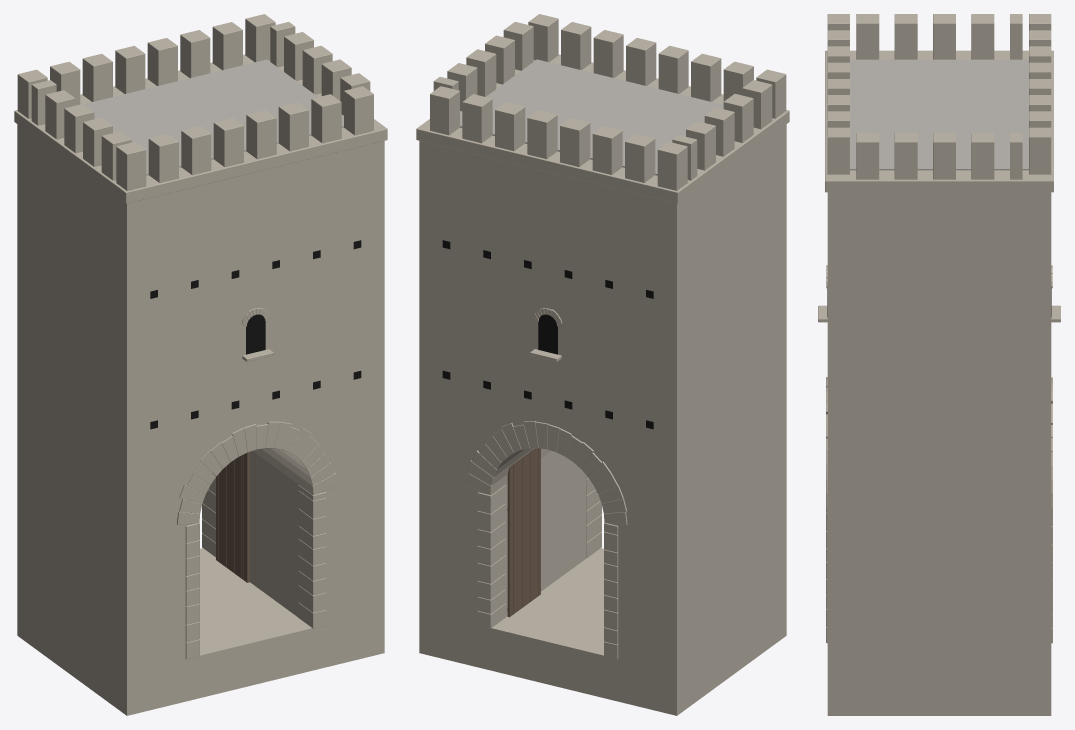
Rendered from porta.glb.
3 renders of one model, left to right at view 1: azimuth 30°, elevation 25°; view 2: azimuth 150°, elevation 25°; view 3: azimuth 270°, elevation 25°, orthographic. The views are drawn at different scales.
Parts seen in each view (by area): view 1: porta; view 2: porta; view 3: porta.
Boxes of the visible parts, bbox=[...] form: porta: bbox=[14, 14, 387, 715]; porta: bbox=[416, 14, 789, 715]; porta: bbox=[818, 14, 1060, 715].
Bounding box in the file's own units: 9.66 × 19.8 × 7.6.
